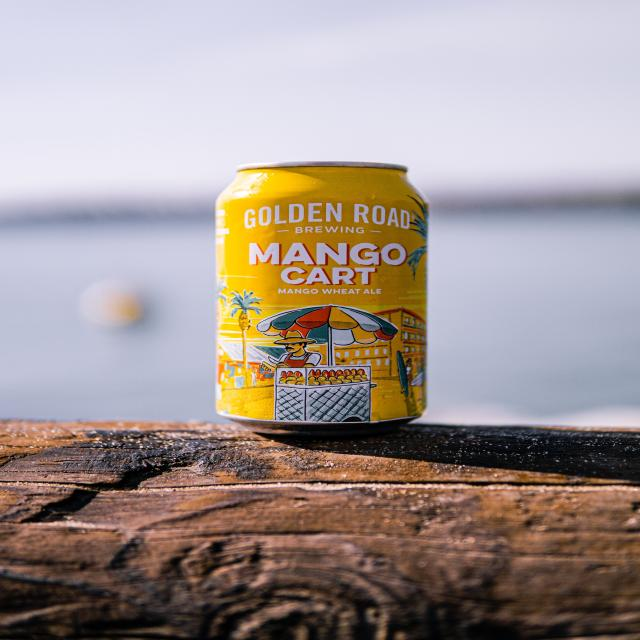can: (215, 160, 428, 438)
